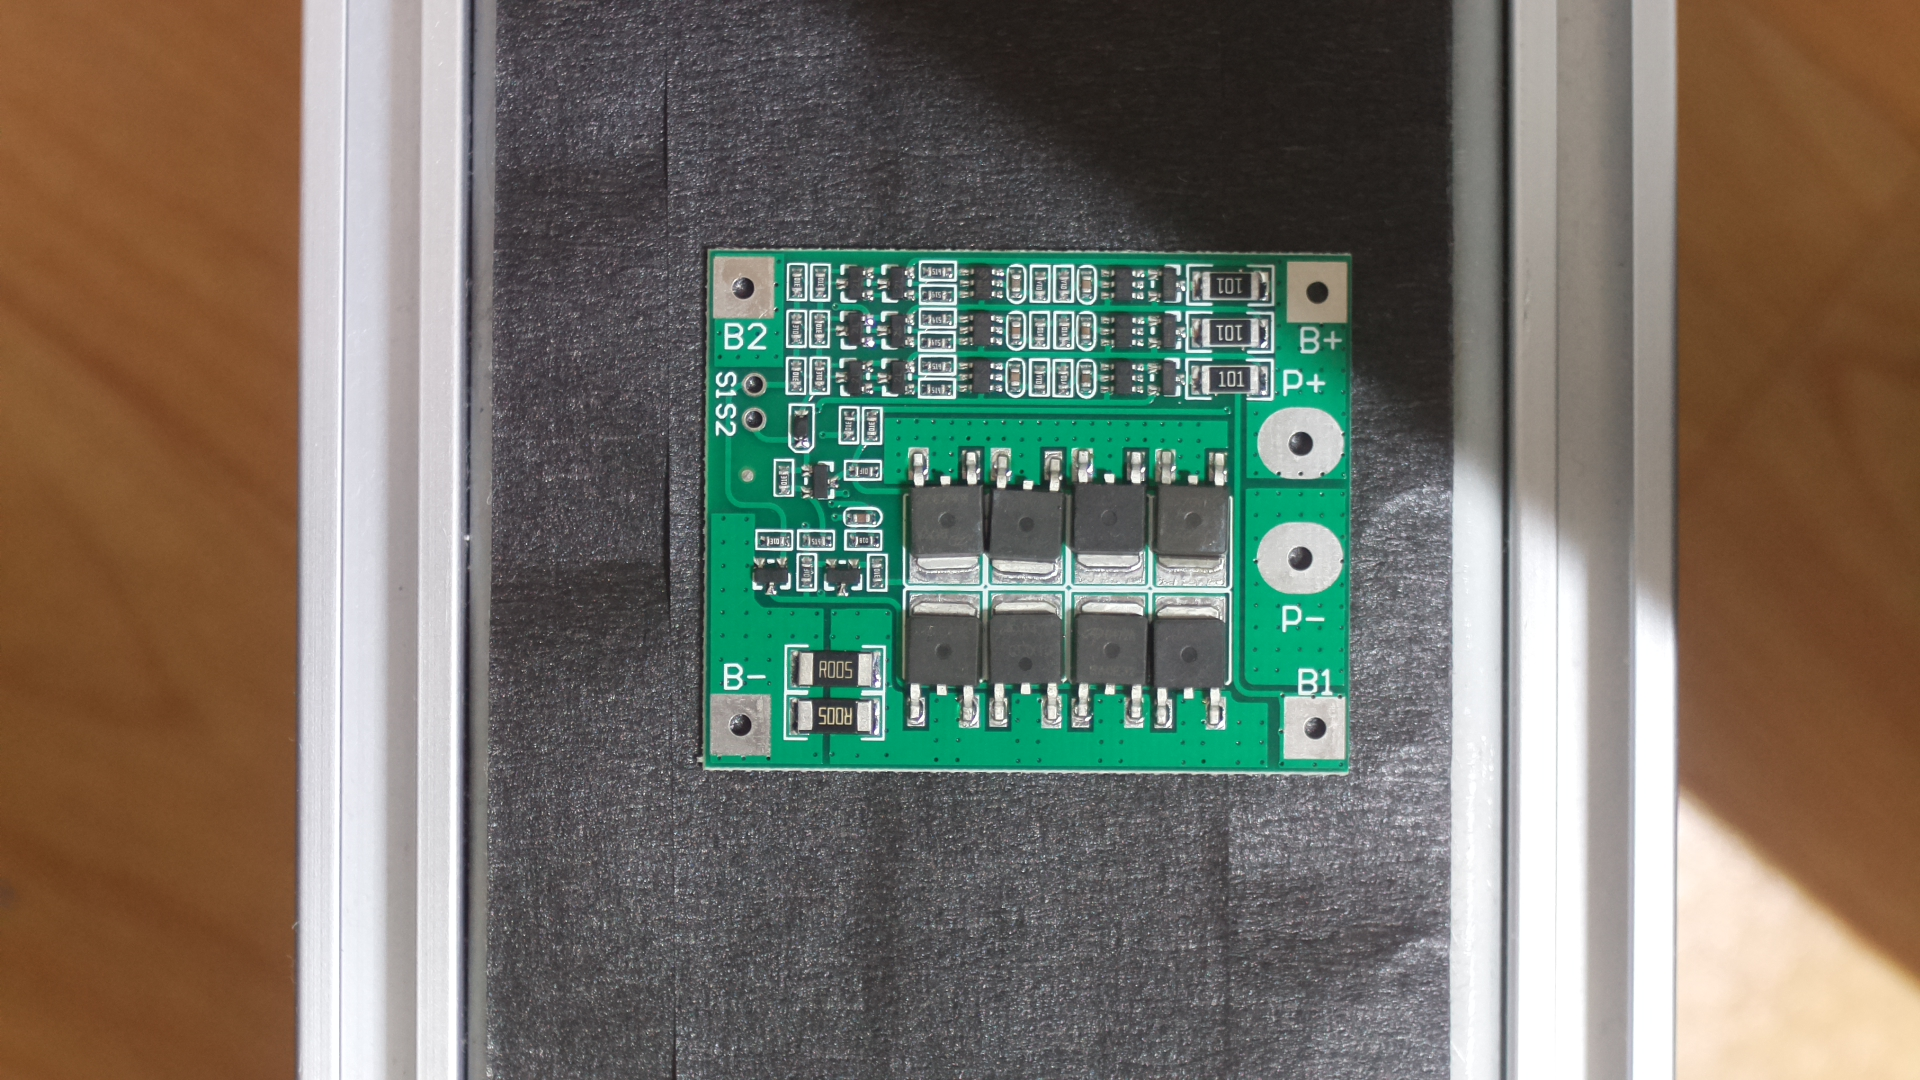C_Normal: (694, 225, 1370, 796)
